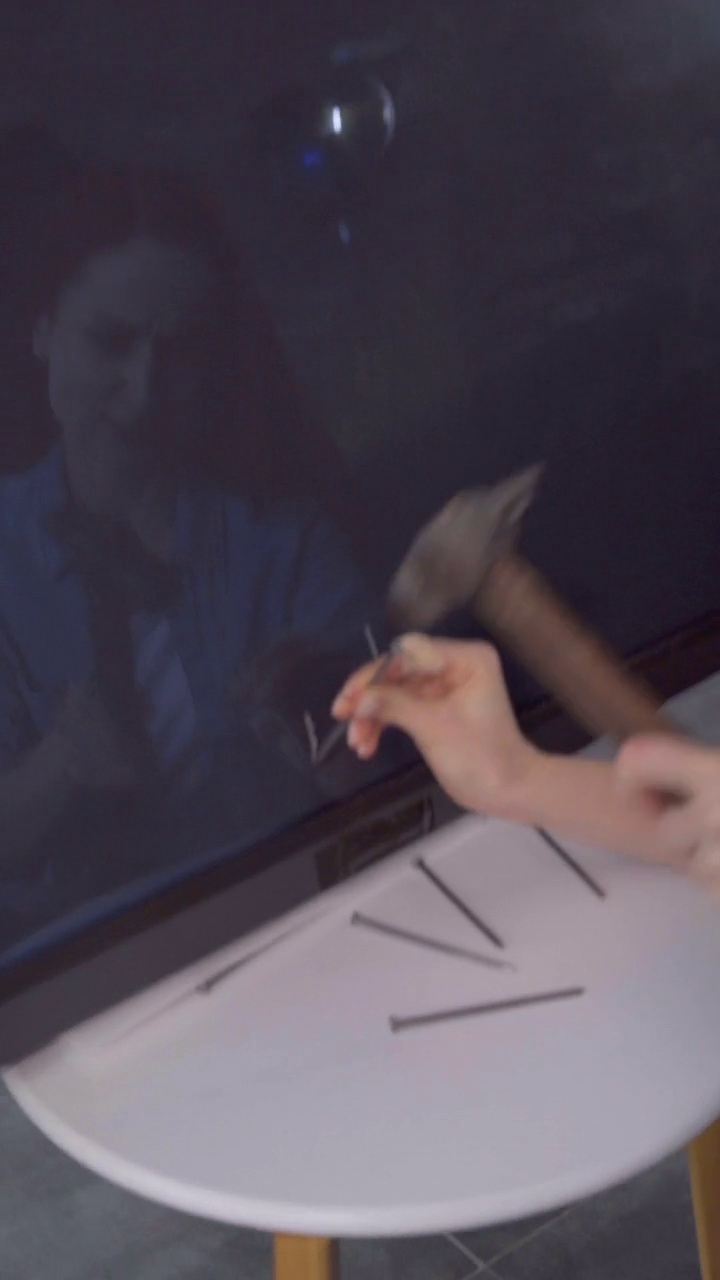hammer: (379, 463, 716, 820)
